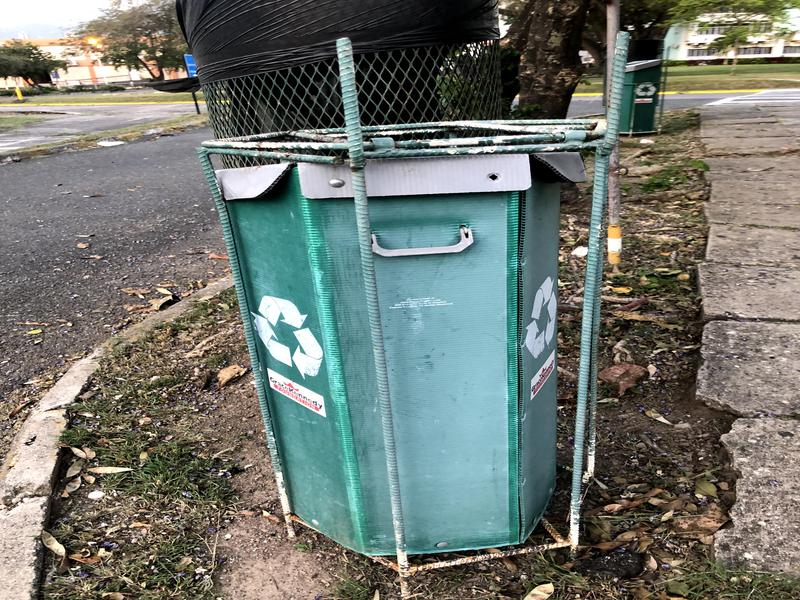18.0053245_-76.7486424_recyclebin: (180, 121, 623, 563)
